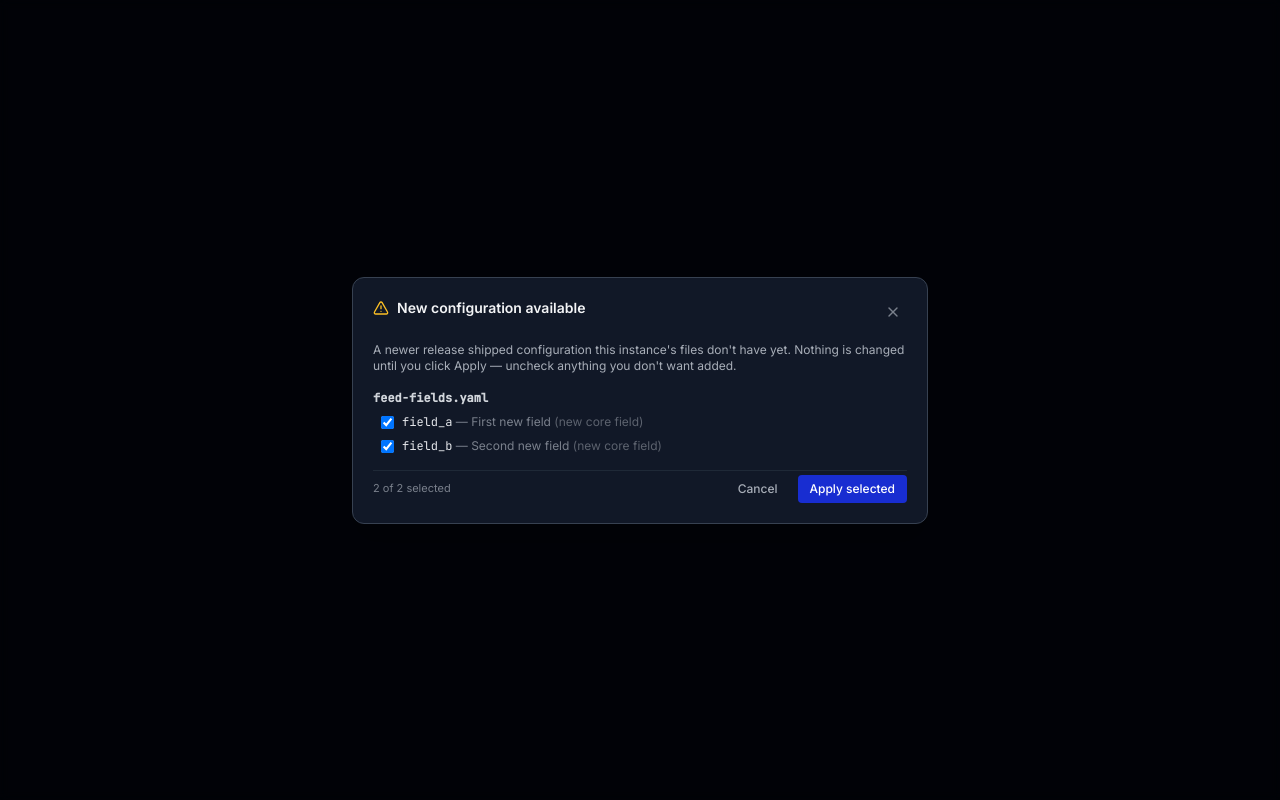
it: ConfigDriftModal › Apply is disabled once every item is unchecked
Click the checkbox labelled "field_a — First new field (new core field)" at (388, 422), box [381,416,394,428]
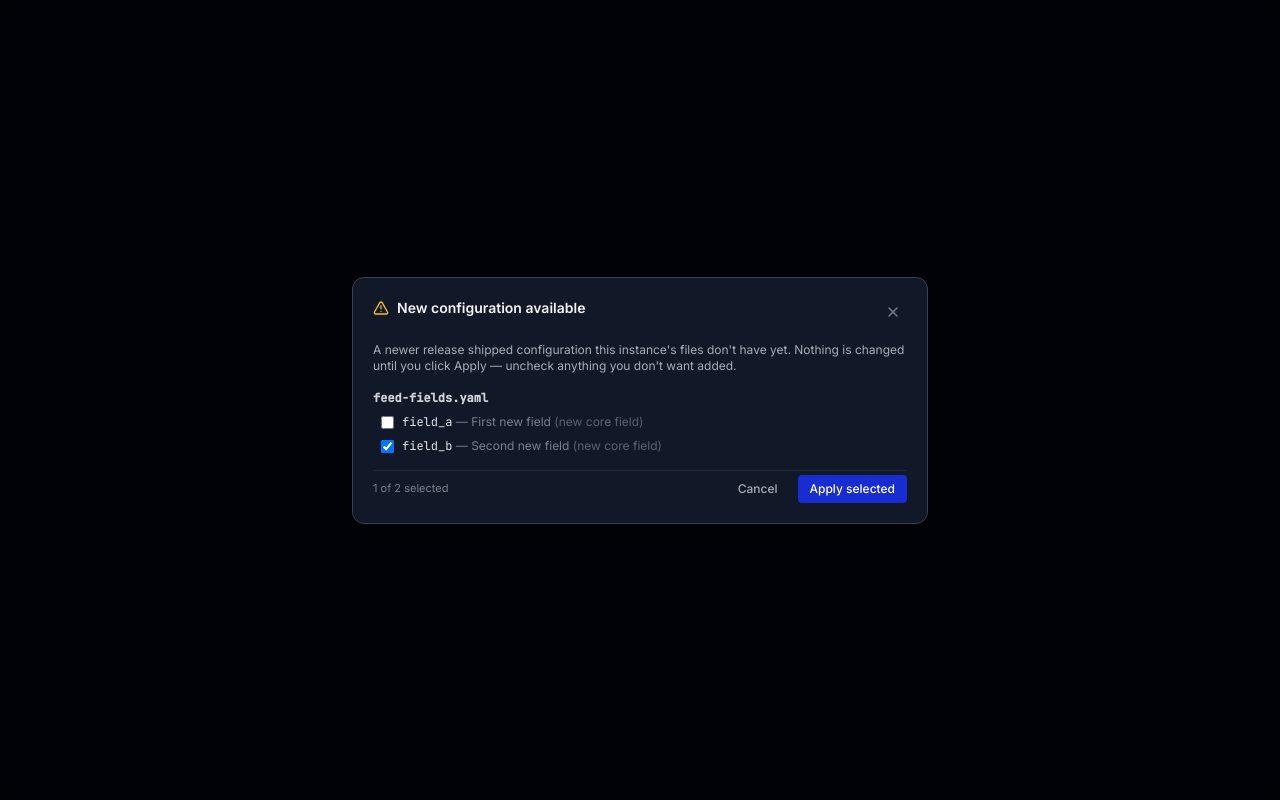
Click the checkbox labelled "field_b — Second new field (new core field)" at (388, 446), box [381,440,394,452]
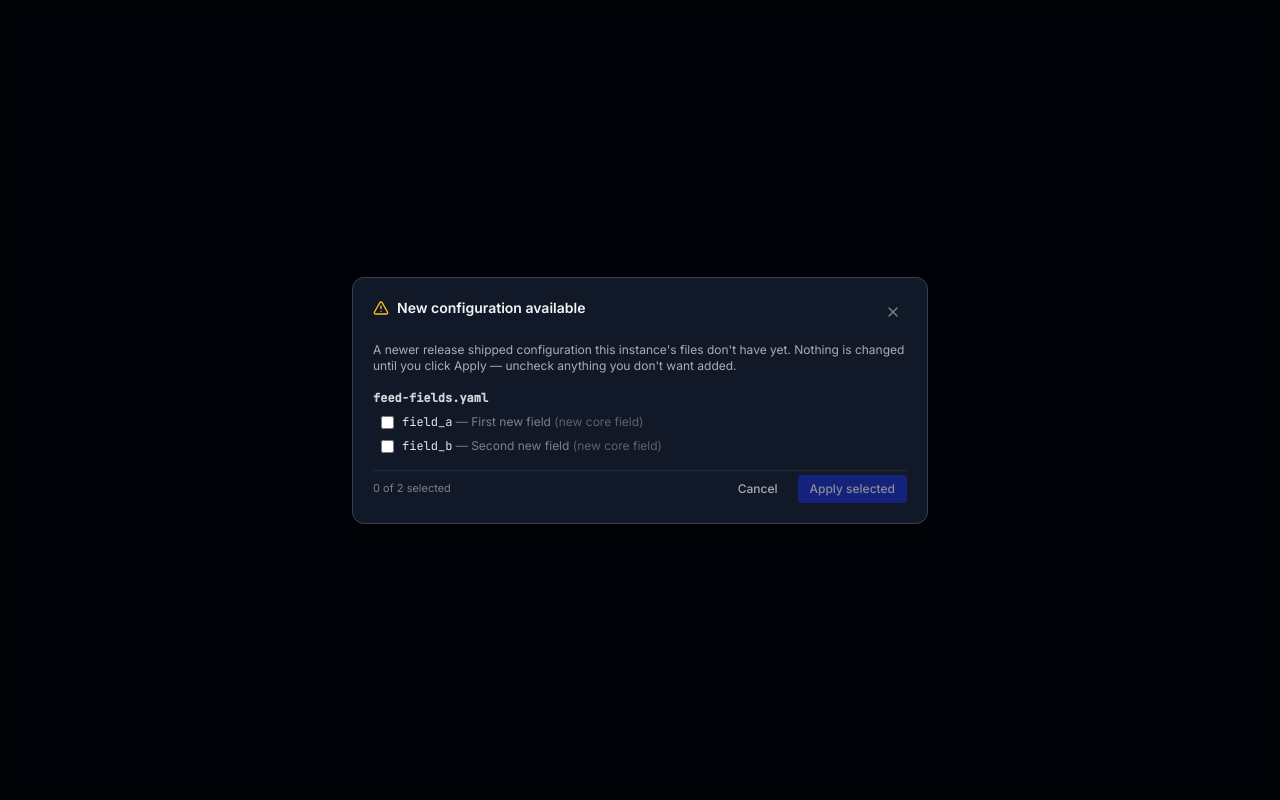
Expected: the button "Apply selected" is disabled, [798,474,907,502]
